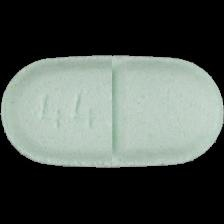50844-375: (0, 0, 224, 224)
